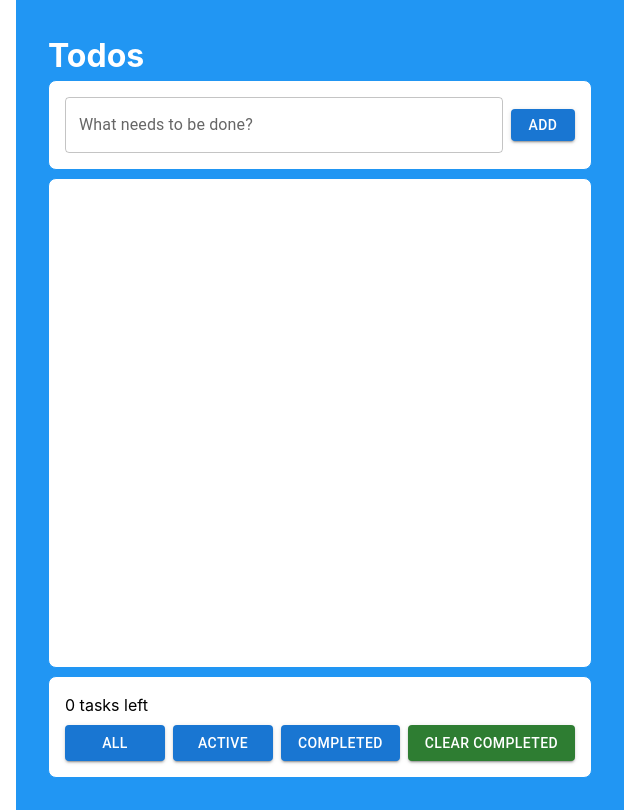
Test: TodoApp › adds a new task
Step 1. Type "New Task" into the search field labelled "What needs to be done?" → coordinates (284, 125), box [65,97,503,153]
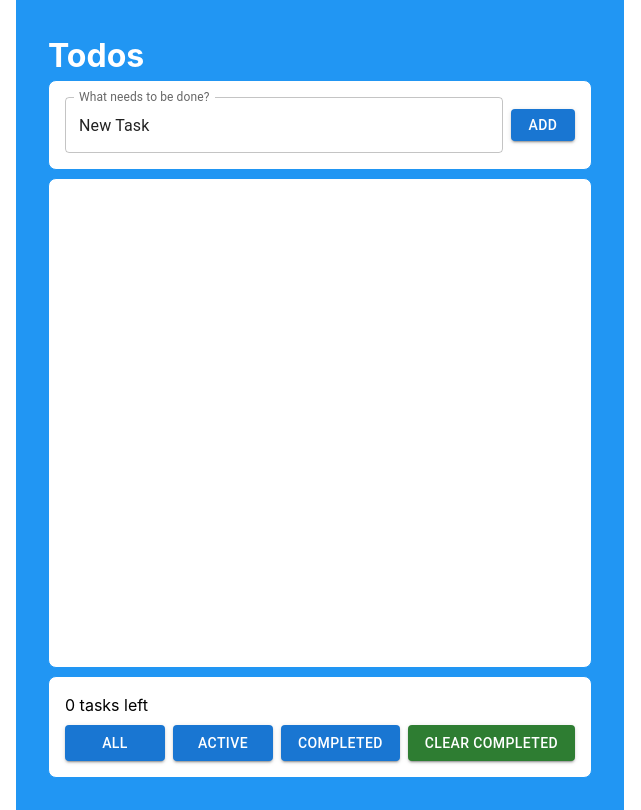
Step 2. Click the button "Add" → coordinates (543, 125), box [511,109,575,141]
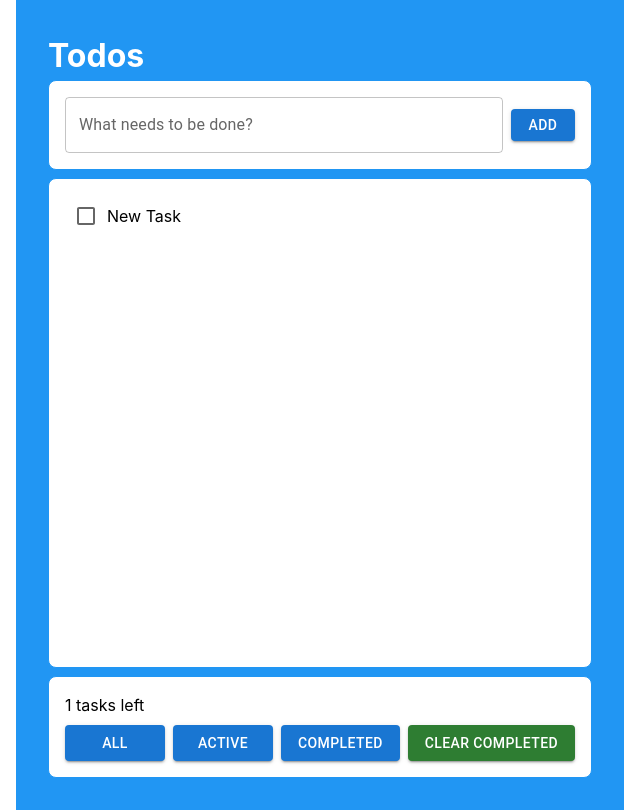
expect the text "New Task" is shown: met, box [107,204,181,228]
